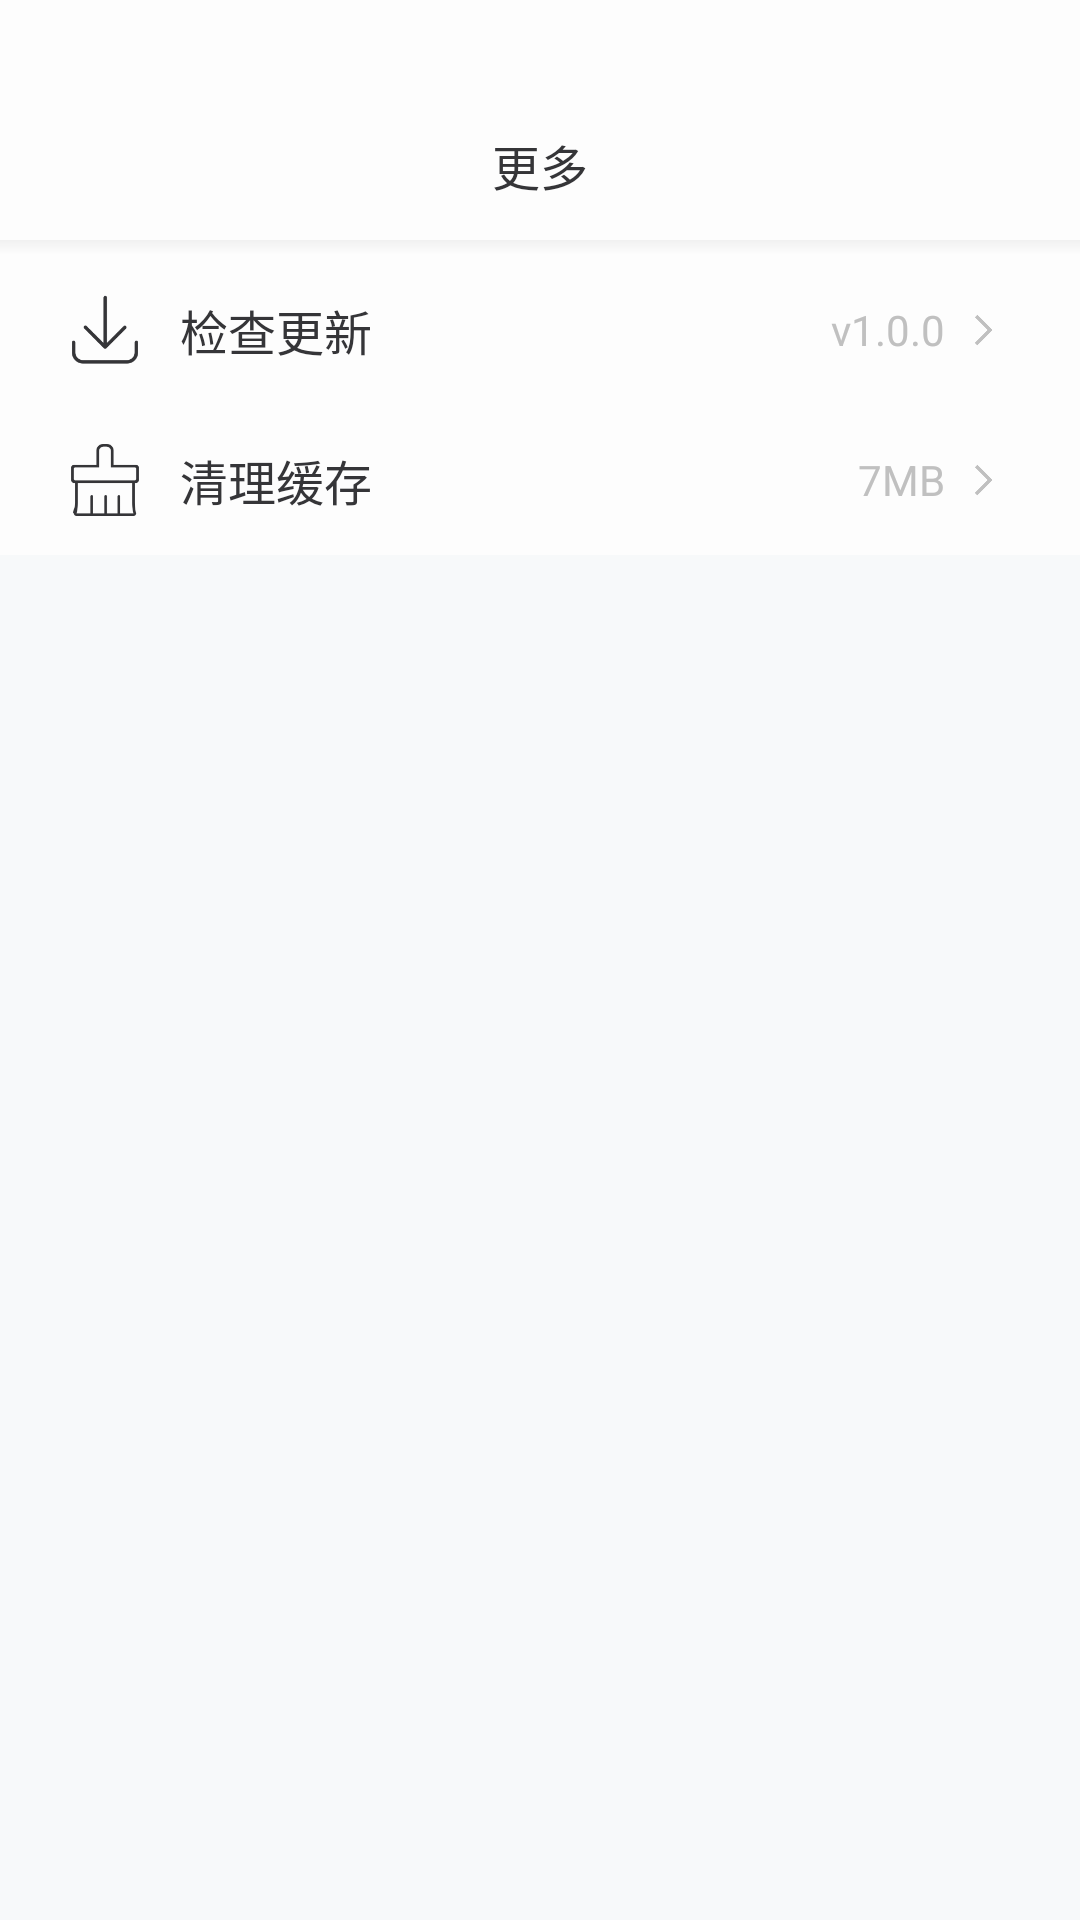

Icons on this 1080x1920 Android screen, each with its box as (x1, y1, x2, y2):
more check update: (72, 296, 138, 364)
more clear: (71, 444, 139, 516)
more next: (975, 315, 992, 345), (975, 465, 992, 495)
